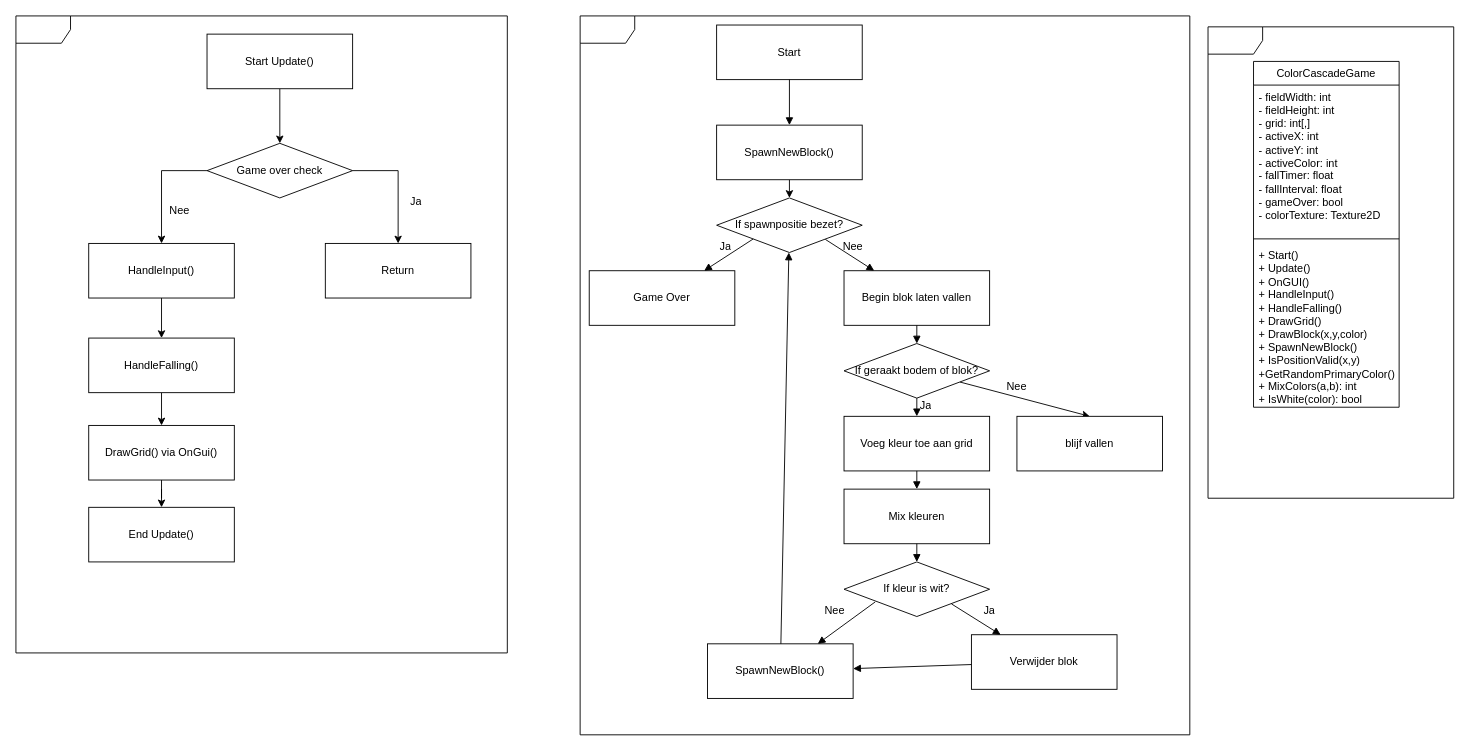
This 1470x751 diagram has some shape labels left out. The shapes that lost their labels are listed below. From the top down, each one's centre as x and y in pixels, then its label:
the point at 1330,262: class diagram
the point at 261,334: Gameplay per fram
the point at 884,375: Game flow
